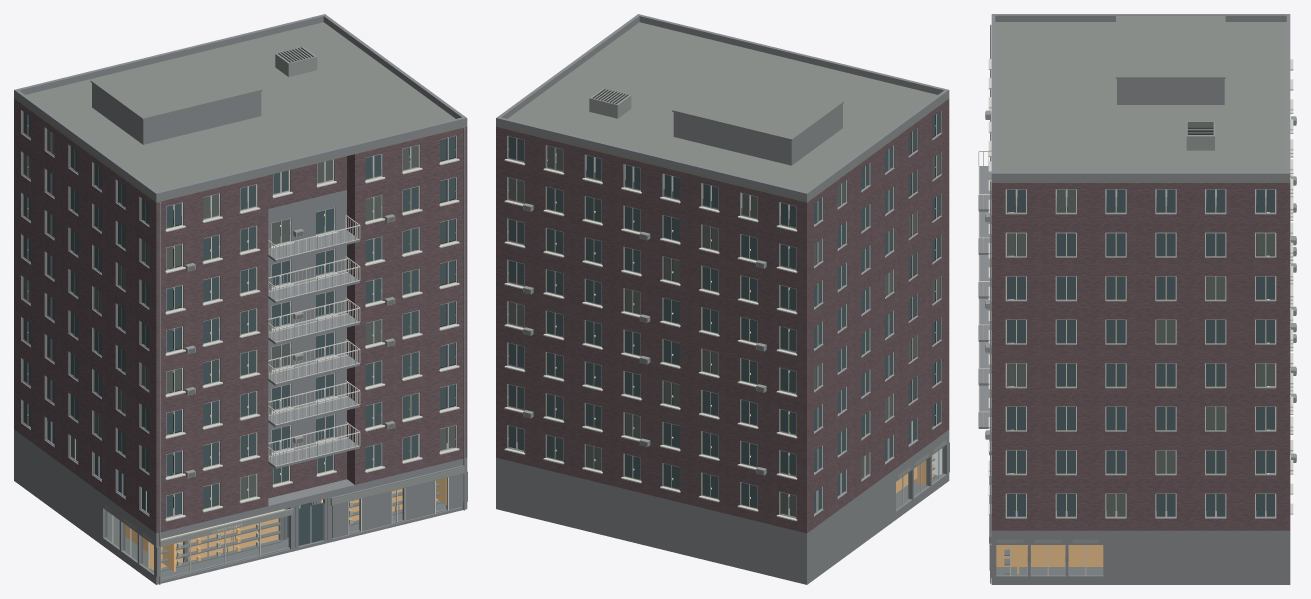
The model's file is mixed-use.glb.
3 renders of one model, left to right at view 1: azimuth 30°, elevation 25°; view 2: azimuth 150°, elevation 25°; view 3: azimuth 270°, elevation 25°, orthographic. The views are drawn at different scales.
Parts seen in each view (by area): view 1: brick-balcony-mixed-use mixed-rose-brick, brick-balcony-mixed-use mixed-stone, brick-balcony-mixed-use modern-roof, brick-balcony-mixed-use modern-glass, brick-balcony-mixed-use mixed-window-frames, brick-balcony-mixed-use mixed-stone.001 detail, brick-balcony-mixed-use mixed-shop-glass, brick-balcony-mixed-use modern-glass-occupied, sage-balcony-mixed-use mixed-sage-brick, brick-balcony-mixed-use mixed-metal, brick-balcony-mixed-use mixed-metal.001 detail, brick-balcony-mixed-use mixed-window-frames.001 detail (+5 smaller); view 2: brick-balcony-mixed-use mixed-rose-brick, brick-balcony-mixed-use mixed-stone, brick-balcony-mixed-use modern-roof, brick-balcony-mixed-use modern-glass, brick-balcony-mixed-use mixed-window-frames, brick-balcony-mixed-use mixed-stone.001 detail, brick-balcony-mixed-use modern-glass-occupied, sage-balcony-mixed-use mixed-sage-brick, brick-balcony-mixed-use mixed-metal, brick-balcony-mixed-use mixed-metal.001 detail, brick-balcony-mixed-use mixed-shop-glass, sage-balcony-mixed-use modern-glass; view 3: brick-balcony-mixed-use mixed-rose-brick, brick-balcony-mixed-use modern-roof, brick-balcony-mixed-use mixed-stone, brick-balcony-mixed-use modern-glass, brick-balcony-mixed-use mixed-window-frames, brick-balcony-mixed-use modern-glass-occupied, sage-balcony-mixed-use mixed-sage-brick, brick-balcony-mixed-use mixed-shop-glass, brick-balcony-mixed-use mixed-shop-interior, brick-balcony-mixed-use mixed-stone.001 detail, brick-balcony-mixed-use mixed-metal.001 detail, brick-balcony-mixed-use mixed-metal (+1 smaller).
Part boxes in pixels (x1=…): brick-balcony-mixed-use mixed-rose-brick: x1=14, y1=99, x2=467, y2=533; brick-balcony-mixed-use mixed-stone: x1=14, y1=14, x2=467, y2=584; brick-balcony-mixed-use modern-roof: x1=14, y1=22, x2=467, y2=202; brick-balcony-mixed-use modern-glass: x1=23, y1=112, x2=455, y2=545; brick-balcony-mixed-use mixed-window-frames: x1=22, y1=111, x2=459, y2=572; brick-balcony-mixed-use mixed-stone.001 detail: x1=21, y1=110, x2=457, y2=571; brick-balcony-mixed-use mixed-shop-glass: x1=105, y1=478, x2=445, y2=577; brick-balcony-mixed-use modern-glass-occupied: x1=23, y1=129, x2=455, y2=498; sage-balcony-mixed-use mixed-sage-brick: x1=70, y1=146, x2=416, y2=513; brick-balcony-mixed-use mixed-metal: x1=105, y1=47, x2=464, y2=546; brick-balcony-mixed-use mixed-metal.001 detail: x1=159, y1=127, x2=465, y2=584; brick-balcony-mixed-use mixed-window-frames.001 detail: x1=268, y1=218, x2=357, y2=465; brick-balcony-mixed-use mixed-rose-brick: x1=496, y1=99, x2=949, y2=533; brick-balcony-mixed-use mixed-stone: x1=496, y1=14, x2=949, y2=584; brick-balcony-mixed-use modern-roof: x1=496, y1=22, x2=949, y2=202; brick-balcony-mixed-use modern-glass: x1=508, y1=112, x2=939, y2=513; brick-balcony-mixed-use mixed-window-frames: x1=504, y1=111, x2=941, y2=521; brick-balcony-mixed-use mixed-stone.001 detail: x1=507, y1=110, x2=942, y2=516; brick-balcony-mixed-use modern-glass-occupied: x1=508, y1=146, x2=939, y2=516; sage-balcony-mixed-use mixed-sage-brick: x1=547, y1=149, x2=892, y2=514; brick-balcony-mixed-use mixed-metal: x1=589, y1=88, x2=946, y2=478; brick-balcony-mixed-use mixed-metal.001 detail: x1=523, y1=203, x2=766, y2=475; brick-balcony-mixed-use mixed-shop-glass: x1=896, y1=447, x2=944, y2=508; sage-balcony-mixed-use modern-glass: x1=788, y1=153, x2=889, y2=475; brick-balcony-mixed-use mixed-rose-brick: x1=991, y1=183, x2=1290, y2=530; brick-balcony-mixed-use modern-roof: x1=991, y1=16, x2=1290, y2=182; brick-balcony-mixed-use mixed-stone: x1=978, y1=14, x2=1290, y2=584; brick-balcony-mixed-use modern-glass: x1=1007, y1=189, x2=1274, y2=516; brick-balcony-mixed-use mixed-window-frames: x1=978, y1=59, x2=1293, y2=575; brick-balcony-mixed-use modern-glass-occupied: x1=1007, y1=189, x2=1274, y2=516; sage-balcony-mixed-use mixed-sage-brick: x1=1015, y1=206, x2=1266, y2=510; brick-balcony-mixed-use mixed-shop-glass: x1=996, y1=545, x2=1102, y2=574; brick-balcony-mixed-use mixed-shop-interior: x1=996, y1=545, x2=1103, y2=574; brick-balcony-mixed-use mixed-stone.001 detail: x1=1004, y1=212, x2=1276, y2=574; brick-balcony-mixed-use mixed-metal.001 detail: x1=985, y1=24, x2=1296, y2=583; brick-balcony-mixed-use mixed-metal: x1=989, y1=121, x2=1214, y2=543.
Size of the model in its own units: 24 by 30.37 by 20.22.
12 materials, 2 textured.
